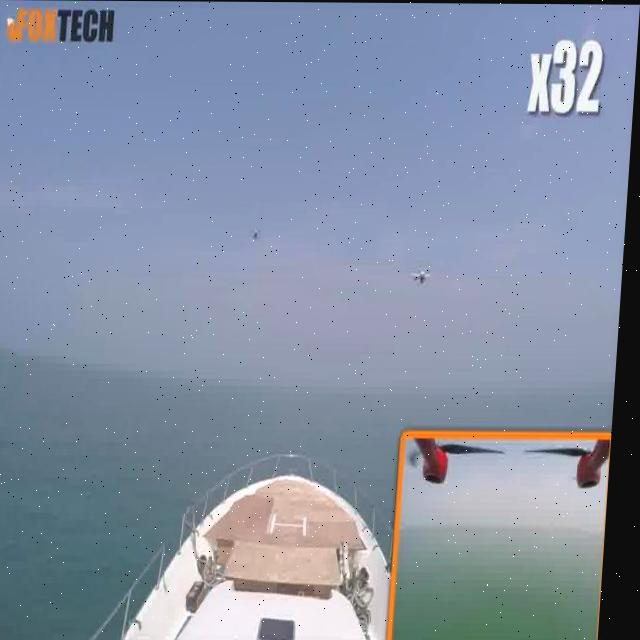drone: (414, 255, 439, 298), (249, 216, 273, 246)
